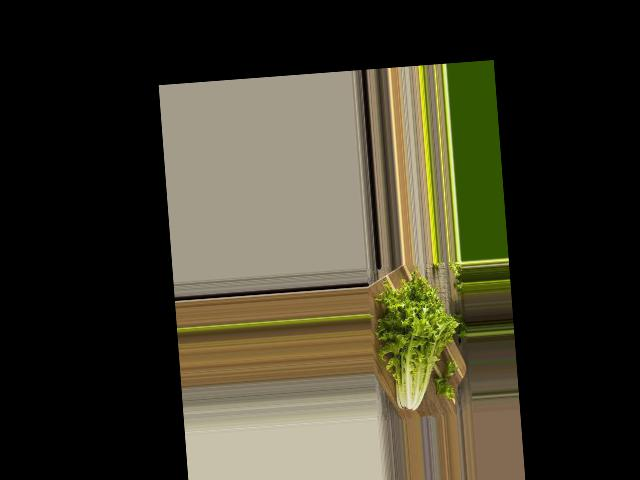lettuce: (350, 274, 460, 383)
